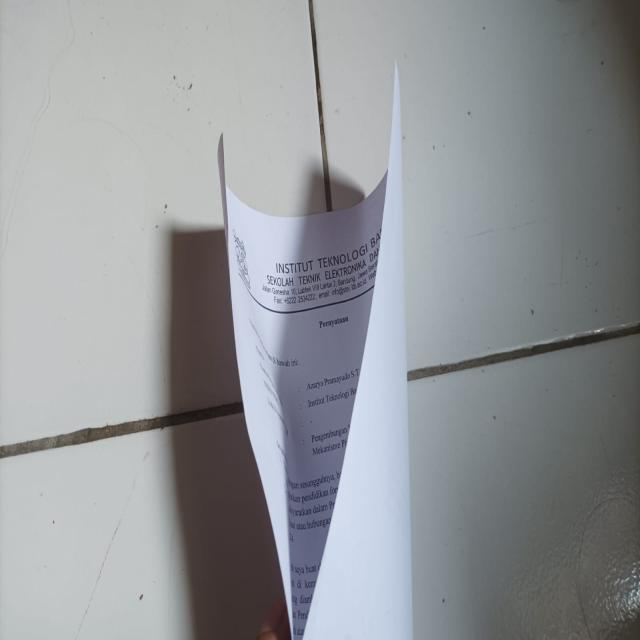Organik: (223, 69, 414, 640)
